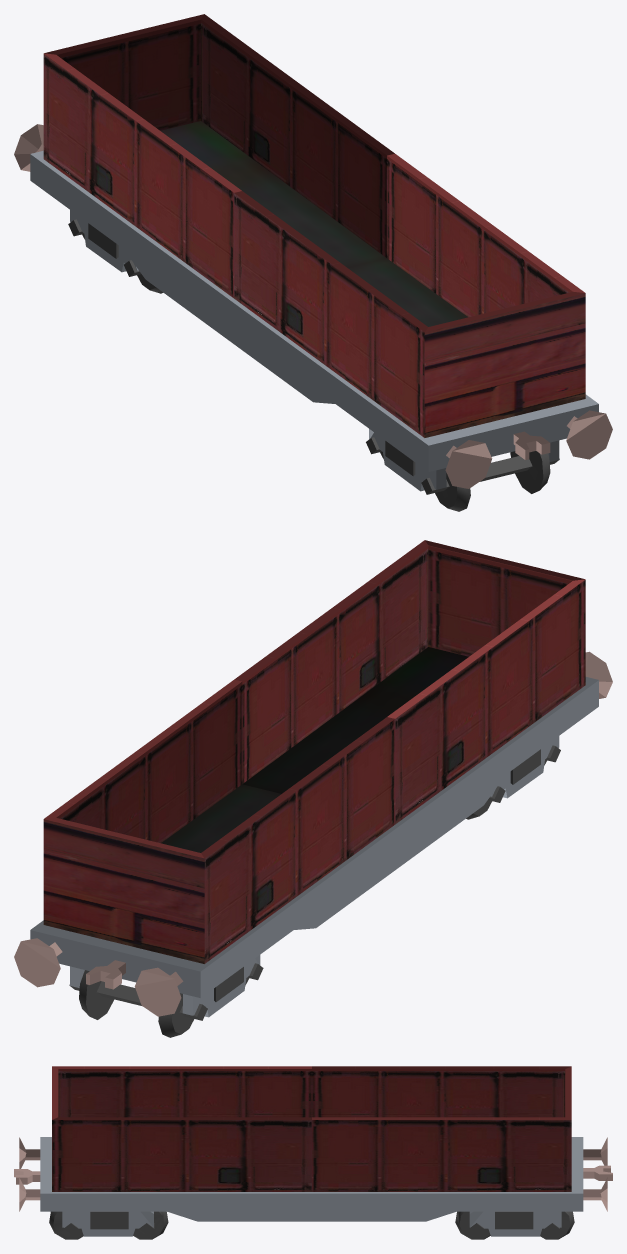
Rendered from opencar.dae.
The picture shows the model from 3 angles, top to bottom: view 1: azimuth 30°, elevation 25°; view 2: azimuth 150°, elevation 25°; view 3: azimuth 270°, elevation 25°; orthographic projection. The views are drawn at different scales.
Visible parts, largest first — view 1: 9.0.242.0_Pts_Material__3__Surf, 9.0.242.0_Pts_Material__4__Surf, 9.0.242.0_Pts_Material__2__Surf, 9.0.242.0_Pts_Material_Surf; view 2: 9.0.242.0_Pts_Material__3__Surf, 9.0.242.0_Pts_Material__4__Surf, 9.0.242.0_Pts_Material__2__Surf, 9.0.242.0_Pts_Material_Surf; view 3: 9.0.242.0_Pts_Material__3__Surf, 9.0.242.0_Pts_Material__4__Surf, 9.0.242.0_Pts_Material_Surf, 9.0.242.0_Pts_Material__2__Surf.
Boxes of the visible parts, x1,y1,x2,y2 form: 9.0.242.0_Pts_Material__3__Surf: (43,14,585,437); 9.0.242.0_Pts_Material__4__Surf: (30,150,598,491); 9.0.242.0_Pts_Material__2__Surf: (14,124,612,488); 9.0.242.0_Pts_Material_Surf: (68,219,559,511); 9.0.242.0_Pts_Material__3__Surf: (43,540,585,963); 9.0.242.0_Pts_Material__4__Surf: (30,677,598,1017); 9.0.242.0_Pts_Material__2__Surf: (14,651,612,1016); 9.0.242.0_Pts_Material_Surf: (69,745,560,1037); 9.0.242.0_Pts_Material__3__Surf: (52,1066,571,1191); 9.0.242.0_Pts_Material__4__Surf: (40,1137,583,1236); 9.0.242.0_Pts_Material_Surf: (49,1211,574,1239); 9.0.242.0_Pts_Material__2__Surf: (14,1137,612,1211).
Bounding box in the file's own units: 3.21 × 3.55 × 14.32.
Materials: 4 (1 with a texture image).
